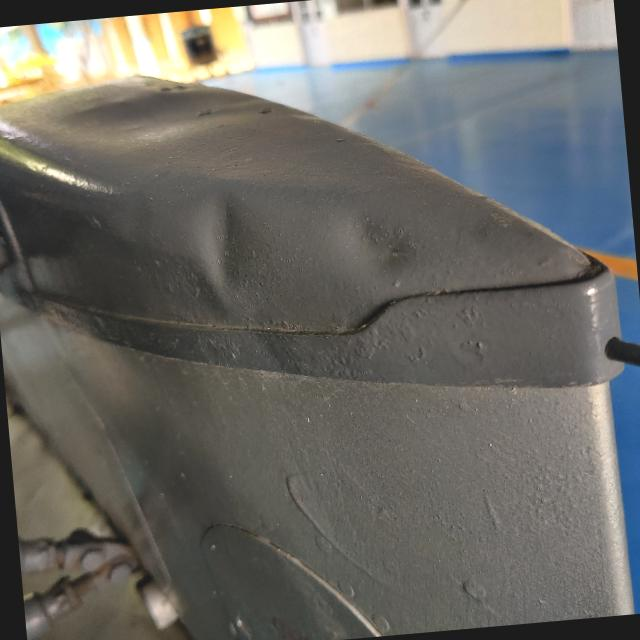dent: (180, 179, 276, 310), (331, 193, 433, 300)
